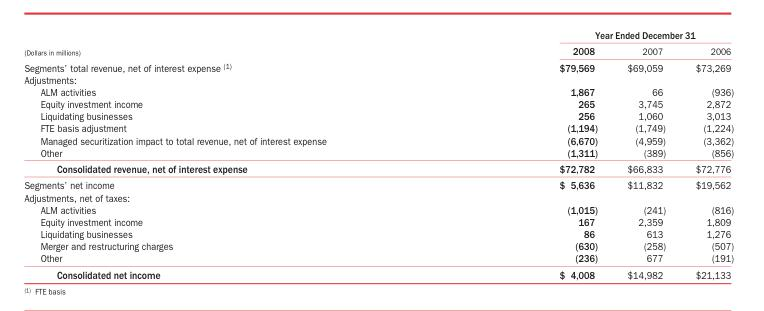table: (23, 28, 733, 280)
table column: (23, 28, 442, 280), (442, 28, 611, 280), (611, 28, 679, 280), (679, 28, 733, 280)
table column header: (23, 28, 733, 58)
table projected row header: (23, 73, 733, 85), (23, 191, 733, 203)
table row: (23, 42, 733, 58), (23, 160, 733, 176), (23, 58, 733, 73), (23, 176, 733, 191), (23, 28, 733, 42), (23, 146, 733, 160), (23, 252, 733, 266), (23, 266, 733, 280), (23, 121, 733, 134), (23, 239, 733, 252), (23, 73, 733, 85), (23, 85, 733, 97), (23, 97, 733, 109), (23, 109, 733, 121), (23, 134, 733, 146), (23, 191, 733, 203), (23, 203, 733, 215), (23, 215, 733, 227), (23, 227, 733, 239)
table spanning cell: (23, 28, 442, 58), (442, 28, 733, 42)
